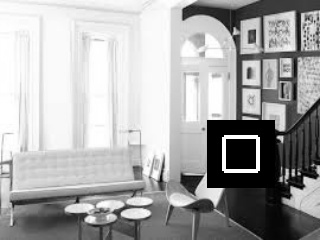square: (207, 120, 275, 188)
